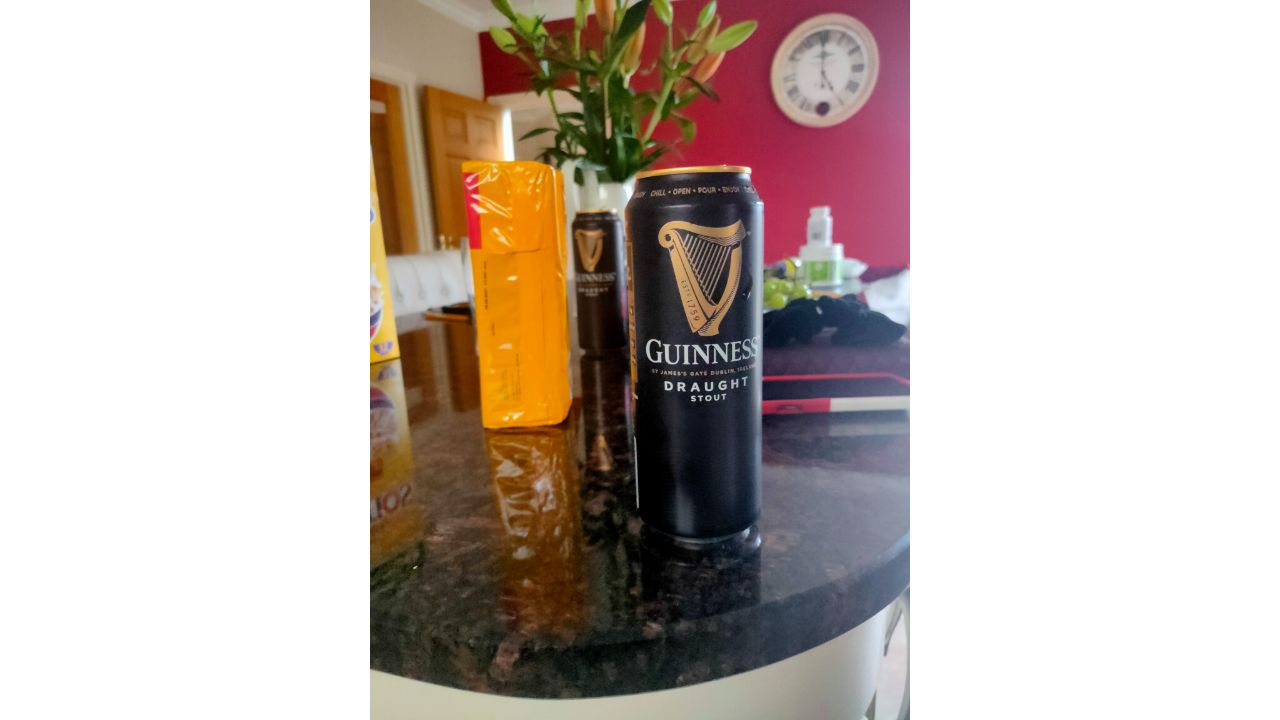Can: (622, 164, 779, 544), (571, 204, 637, 361)
